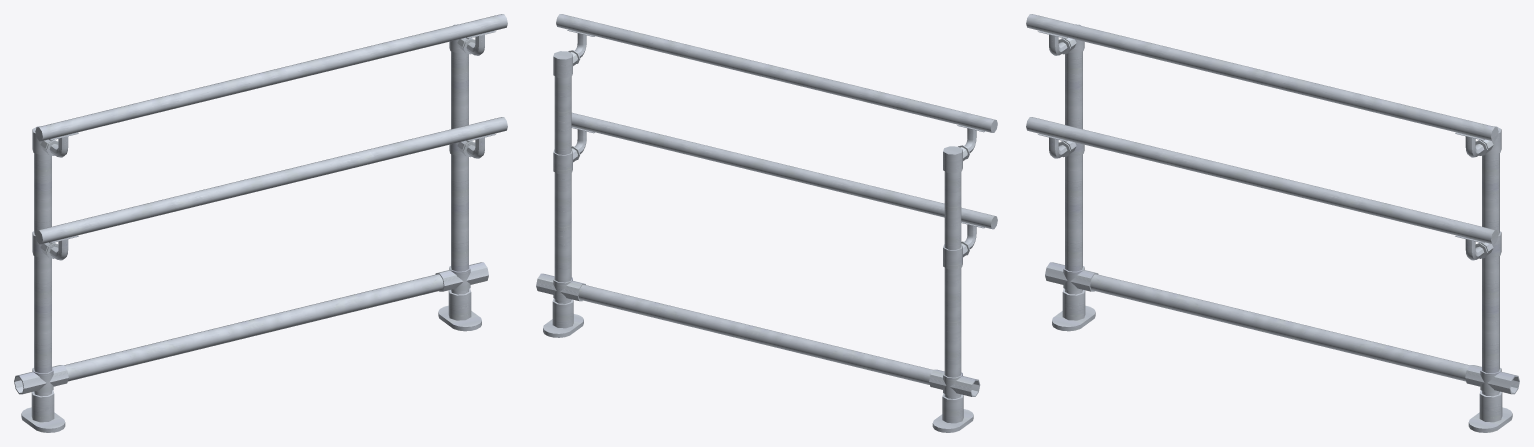
The picture shows the model from 3 angles, left to right: view 1: azimuth 30°, elevation 25°; view 2: azimuth 150°, elevation 25°; view 3: azimuth 330°, elevation 25°; orthographic projection. The views are drawn at different scales.
Parts seen in each view (by area): view 1: Cylinder006; view 2: Cylinder006; view 3: Cylinder006.
Part boxes in pixels (box(x1,y1,x2,y2)): Cylinder006: box(14, 14, 507, 432); Cylinder006: box(536, 14, 997, 432); Cylinder006: box(1026, 14, 1519, 432).
Size of the model in its own units: 1.48 by 0.9563 by 0.2055.
Materials: 1 (1 with a texture image).
